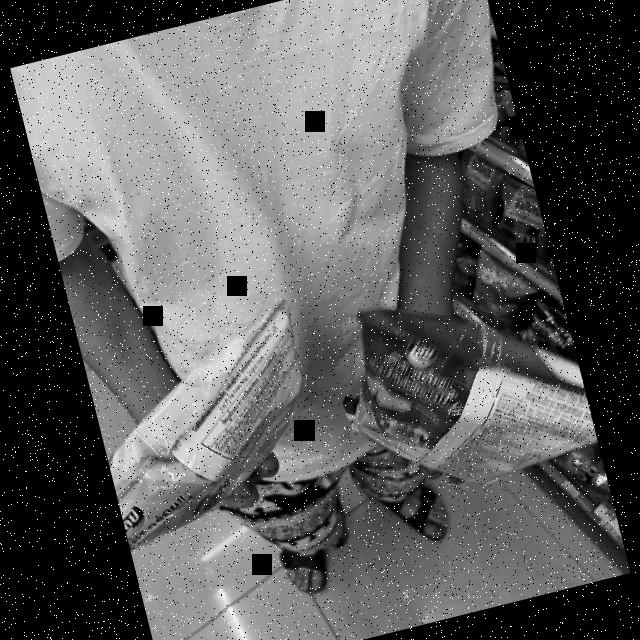snack_bag: (309, 249, 605, 533), (76, 283, 348, 555)
